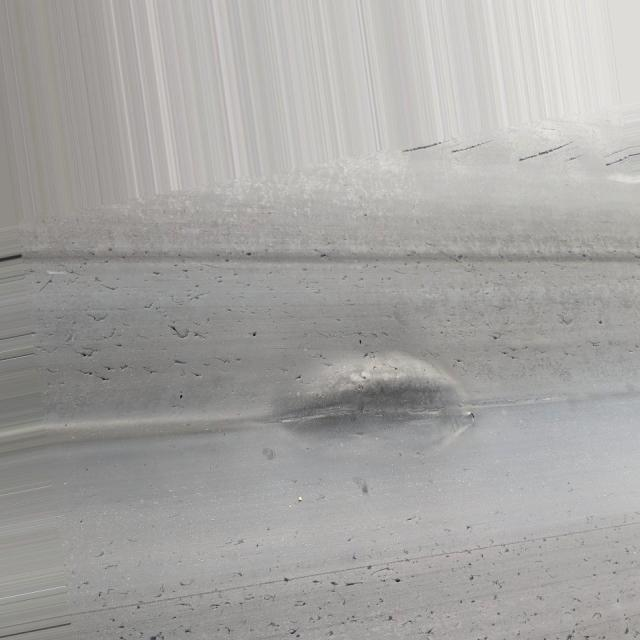impact damage: (270, 348, 485, 461)
